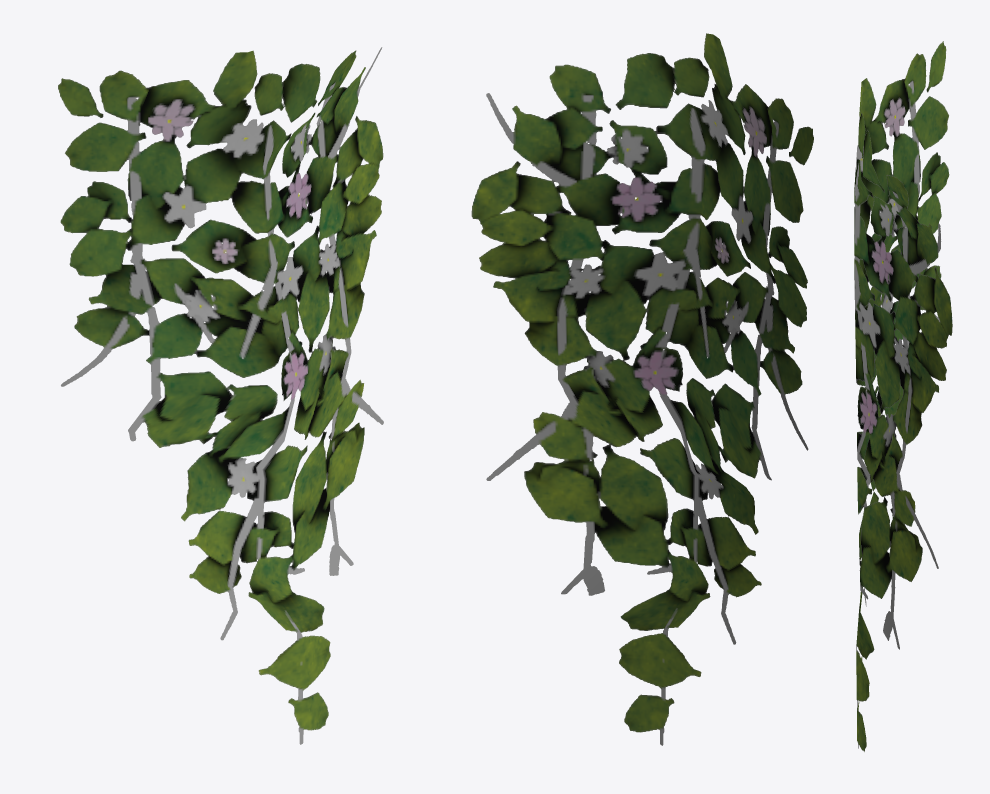
Rendered from Flowers_Bush_07.fbx.
The picture shows the model from 3 angles, left to right: view 1: azimuth 30°, elevation 25°; view 2: azimuth 150°, elevation 25°; view 3: azimuth 270°, elevation 25°; orthographic projection. The views are drawn at different scales.
Visible parts, largest first — view 1: Flowers_Bush_07; view 2: Flowers_Bush_07; view 3: Flowers_Bush_07.
Part boxes in pixels (x1,y1,x2,y2): Flowers_Bush_07: (58,47,383,744); Flowers_Bush_07: (471,33,813,745); Flowers_Bush_07: (854,41,952,751).
Size of the model in its own units: 1.73 by 3.11 by 0.5149.
